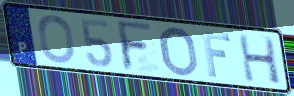5: (78, 18, 115, 69)
F: (115, 19, 155, 74), (200, 30, 233, 79)
H: (236, 32, 283, 86)
O: (159, 25, 200, 78), (37, 14, 77, 65)
